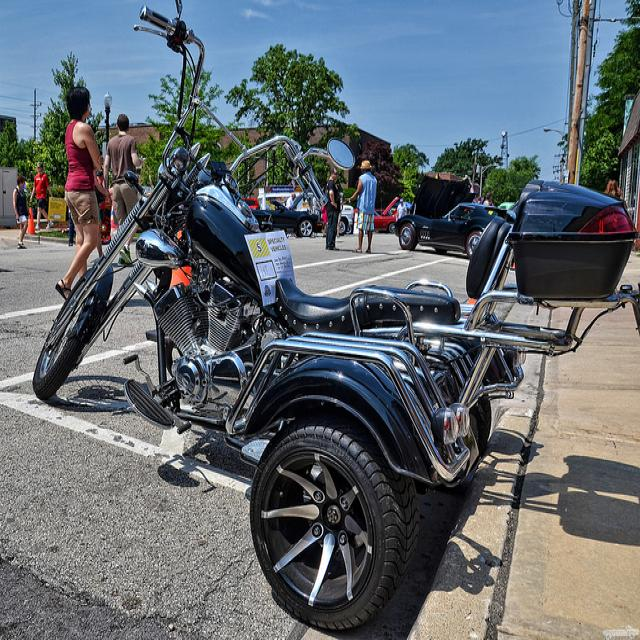motor: (30, 4, 639, 627)
